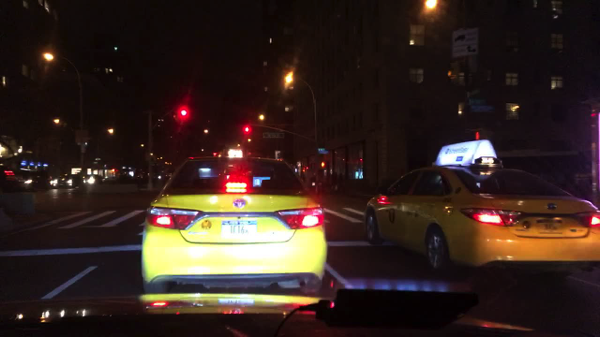car: (362, 140, 598, 279), (139, 157, 328, 296), (0, 164, 30, 193), (25, 168, 62, 190), (54, 174, 81, 189), (117, 170, 142, 184), (144, 169, 166, 184), (80, 174, 105, 187)
traffic light: (472, 130, 483, 140), (181, 108, 188, 122), (317, 162, 329, 169), (243, 125, 250, 134), (112, 168, 115, 174)
traffic sign: (450, 29, 480, 58), (74, 130, 89, 146), (471, 106, 494, 114), (263, 132, 285, 139), (467, 98, 487, 105)
